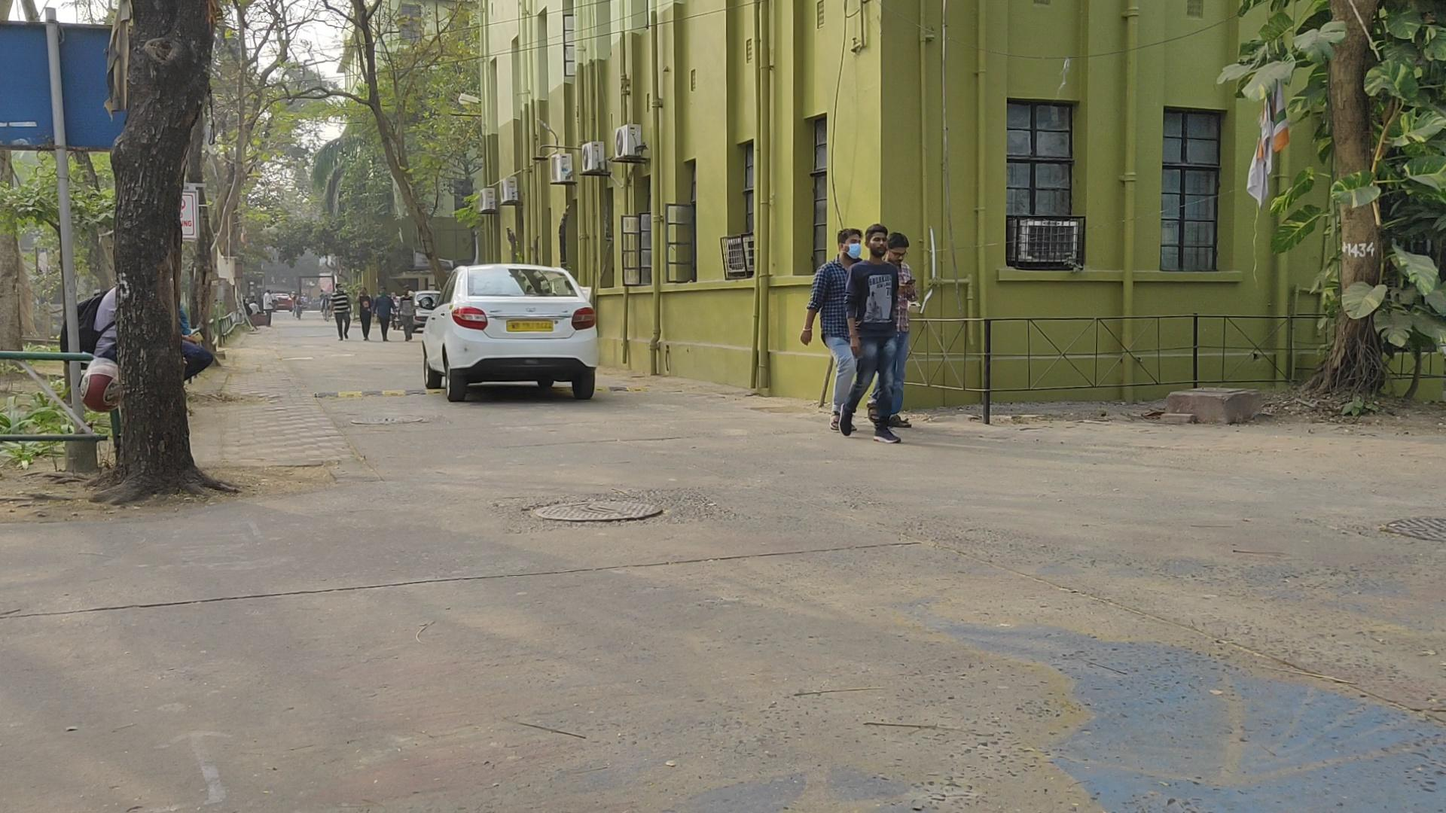car: (421, 259, 599, 402)
